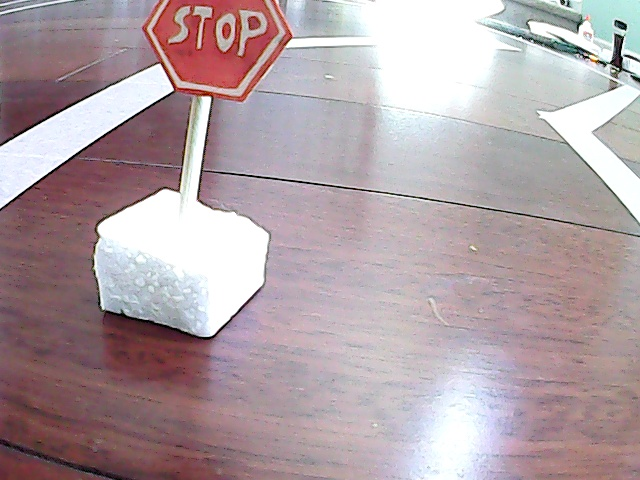stop: (128, 1, 284, 340)
